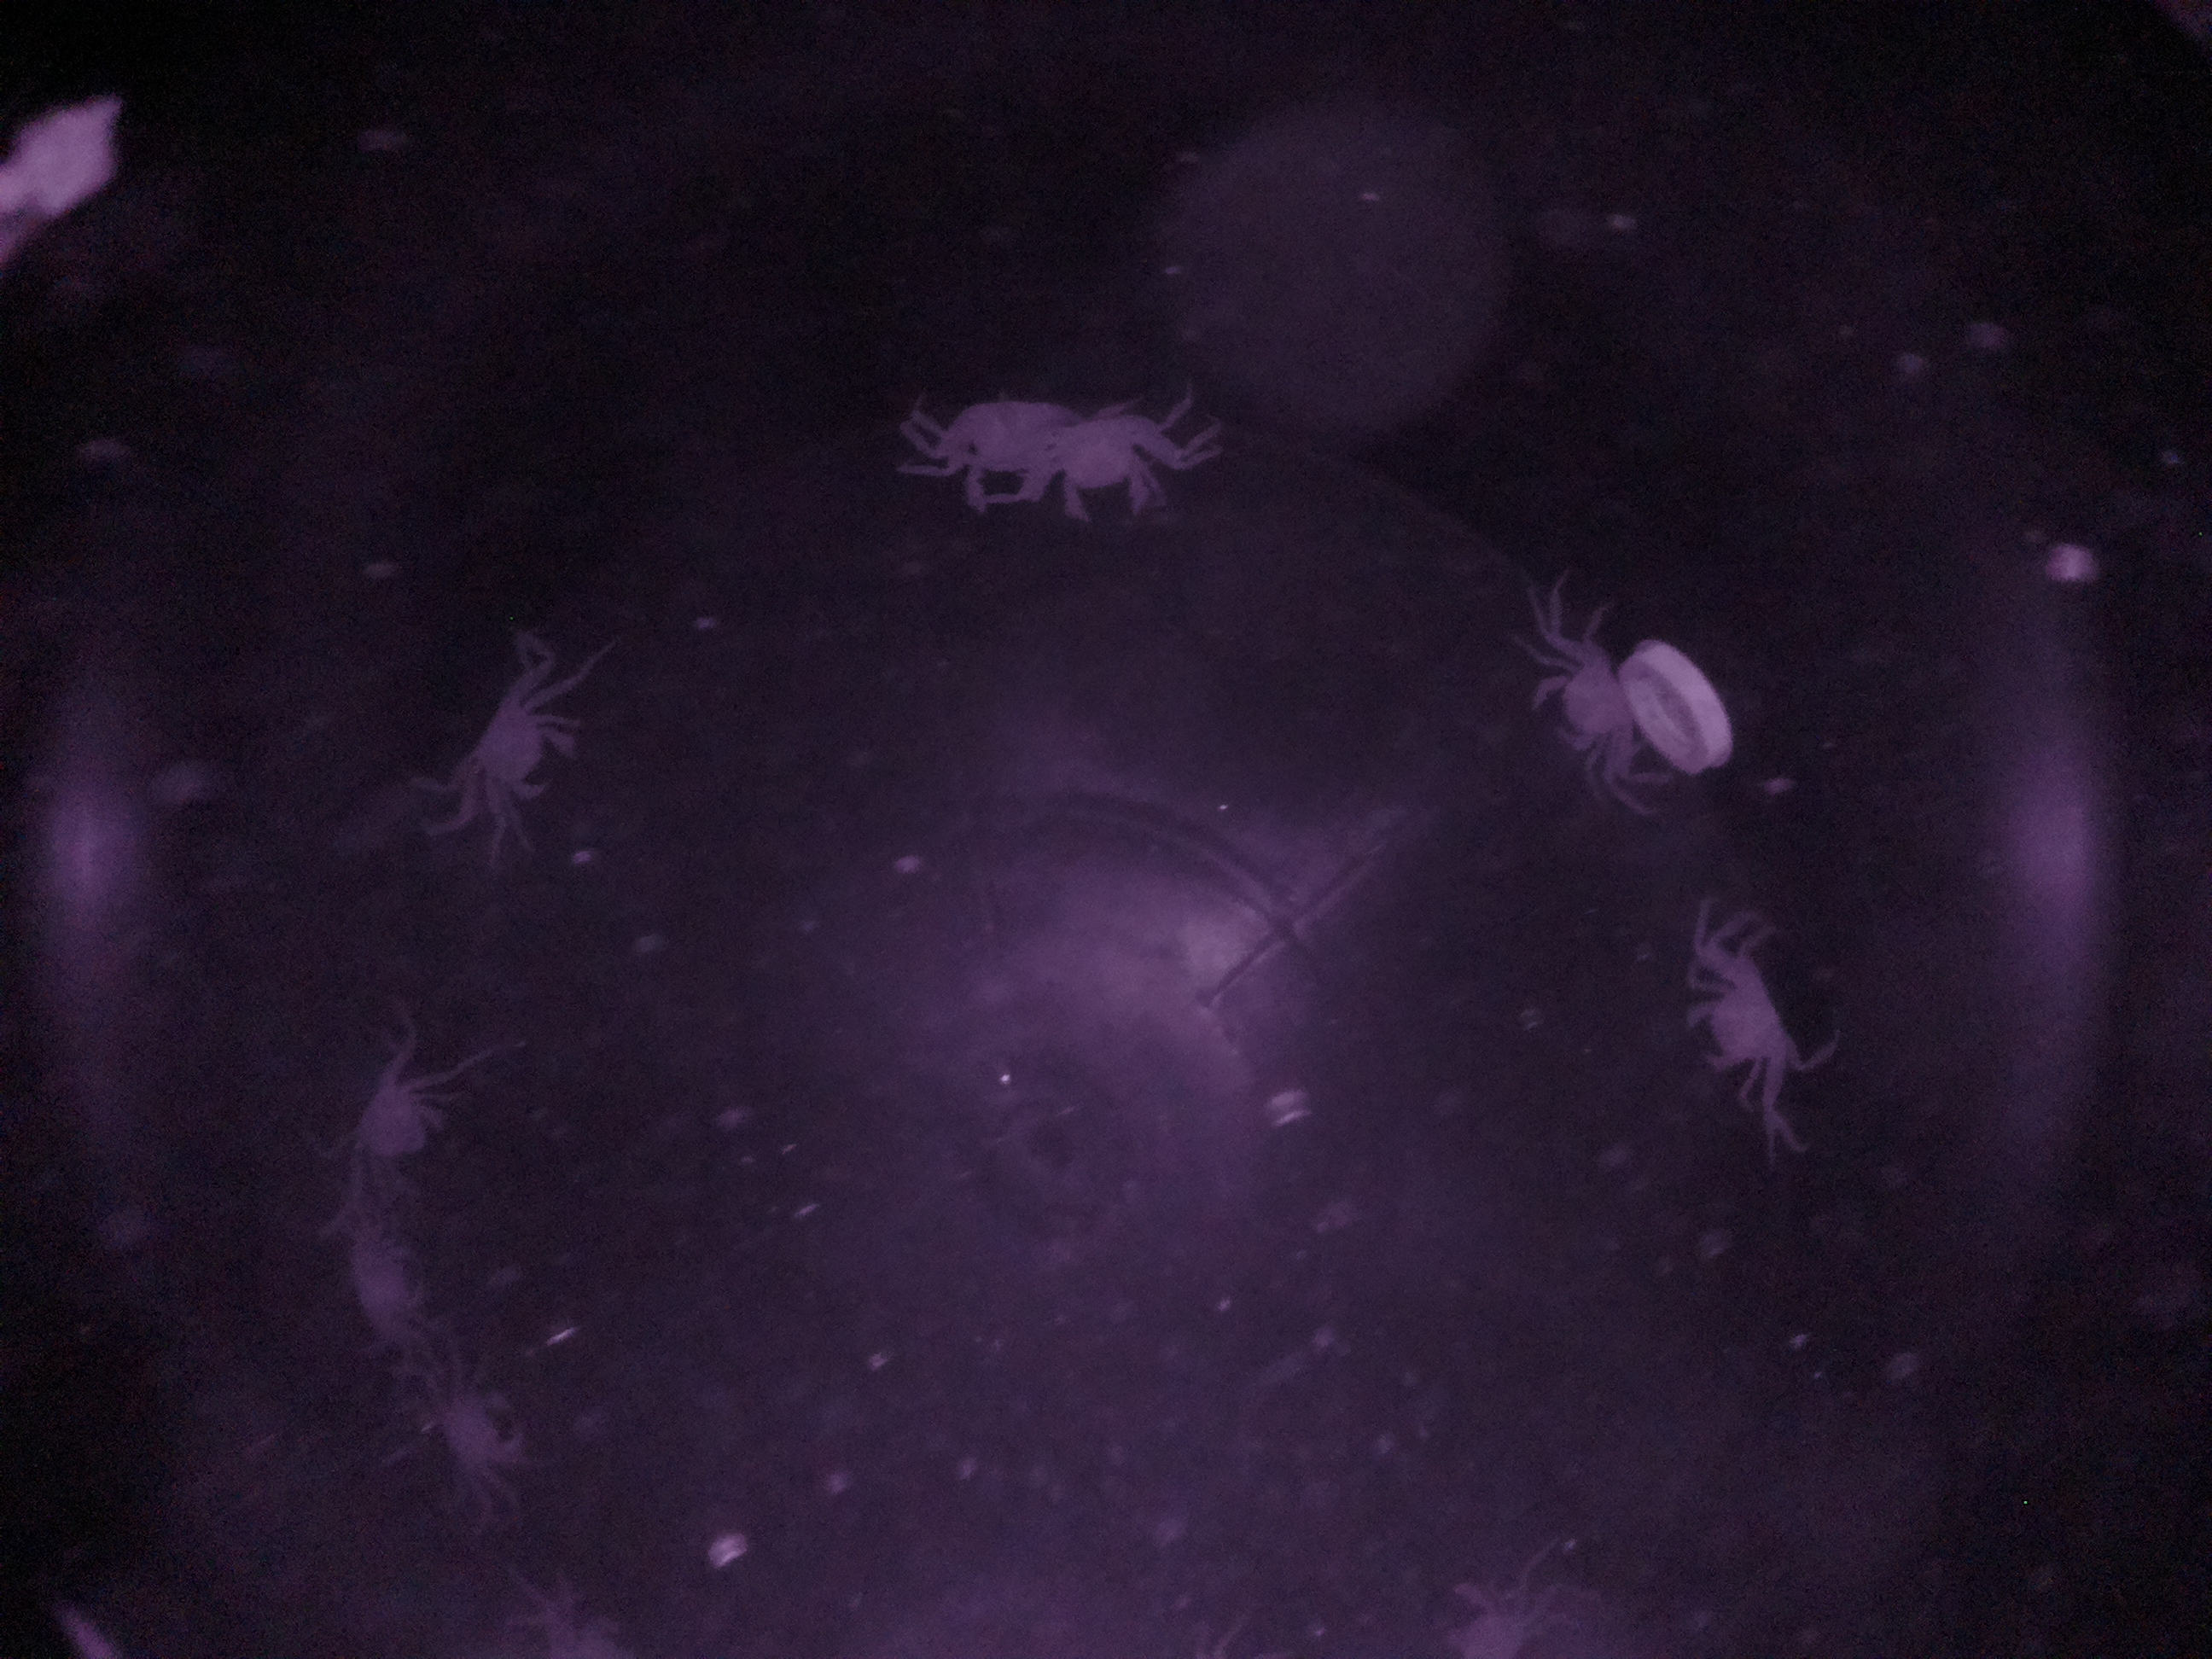Crab: (1670, 943, 1820, 1108), (1519, 617, 1663, 784), (446, 666, 594, 828), (395, 1368, 552, 1509)
